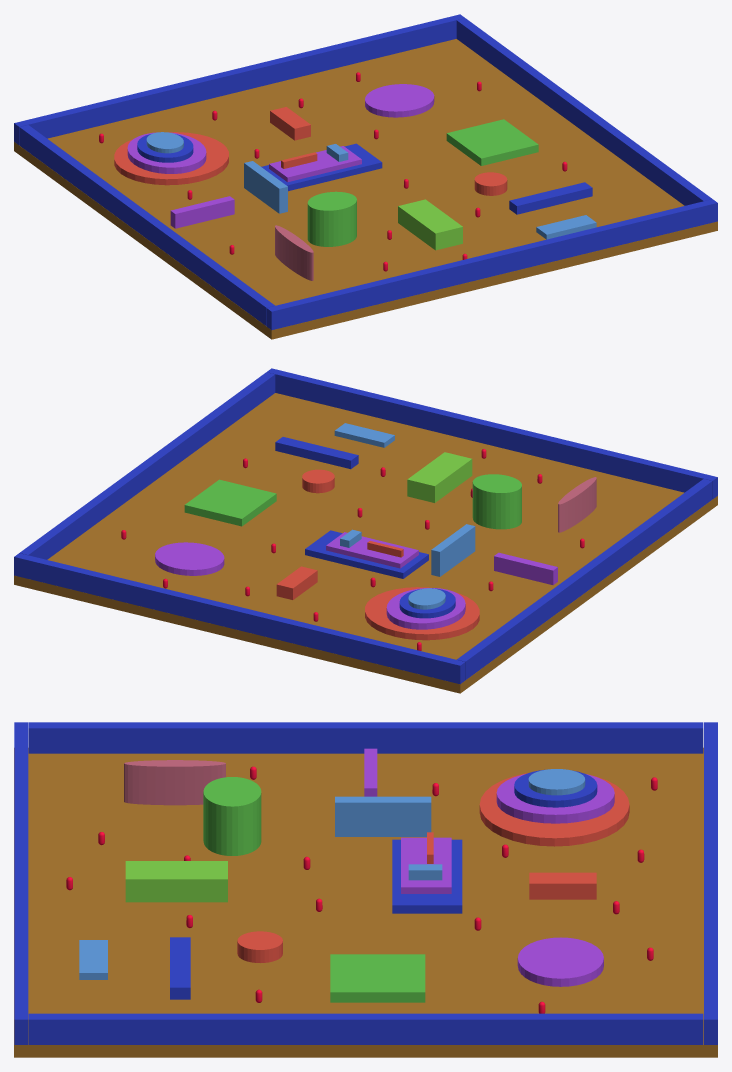
3 views of the same model, one above another, from view 1: azimuth 30°, elevation 25°; view 2: azimuth 150°, elevation 25°; view 3: azimuth 270°, elevation 25° (orthographic). The views are drawn at different scales.
Parts seen in each view (by area): view 1: Cube, Cube.002, Cube.001, Cube.003, Cube.004, Cube.012, Cylinder.004, Cylinder, Cube.014, Cylinder.006, Cube.010, Cylinder.007 (+10 smaller); view 2: Cube, Cube.001, Cube.002, Cube.003, Cube.004, Cube.012, Cylinder.004, Cylinder, Cube.014, Cylinder.006, Cube.005, Cube.010 (+10 smaller); view 3: Cube, Cube.004, Cube.003, Cube.002, Cube.012, Cube.001, Cube.014, Cylinder.004, Cylinder, Cylinder.007, Cube.010, Cylinder.006 (+11 smaller).
Boxes of the visible parts, x1=… form: Cube: x1=14, y1=39, x2=717, y2=339; Cube.002: x1=266, y1=199, x2=717, y2=330; Cube.001: x1=14, y1=14, x2=464, y2=145; Cube.003: x1=19, y1=125, x2=274, y2=326; Cube.004: x1=456, y1=18, x2=711, y2=205; Cube.012: x1=446, y1=119, x2=538, y2=165; Cylinder.004: x1=307, y1=191, x2=356, y2=246; Cylinder: x1=114, y1=132, x2=228, y2=185; Cube.014: x1=398, y1=199, x2=462, y2=250; Cylinder.006: x1=365, y1=84, x2=434, y2=117; Cube.010: x1=244, y1=161, x2=287, y2=213; Cylinder.007: x1=275, y1=225, x2=313, y2=280; Cube: x1=14, y1=393, x2=717, y2=693; Cube.001: x1=14, y1=553, x2=465, y2=684; Cube.002: x1=267, y1=368, x2=717, y2=499; Cube.003: x1=457, y1=479, x2=712, y2=680; Cube.004: x1=19, y1=372, x2=275, y2=559; Cube.012: x1=184, y1=479, x2=276, y2=526; Cylinder.004: x1=472, y1=474, x2=521, y2=529; Cylinder: x1=365, y1=587, x2=479, y2=640; Cube.014: x1=407, y1=452, x2=472, y2=502; Cylinder.006: x1=155, y1=542, x2=224, y2=575; Cube.005: x1=305, y1=530, x2=428, y2=578; Cube.010: x1=431, y1=524, x2=475, y2=576; Cube: x1=14, y1=747, x2=717, y2=1057; Cube.004: x1=28, y1=1013, x2=703, y2=1044; Cube.003: x1=28, y1=722, x2=703, y2=753; Cube.002: x1=14, y1=722, x2=28, y2=1044; Cube.012: x1=330, y1=954, x2=425, y2=1002; Cube.001: x1=704, y1=722, x2=717, y2=1044; Cube.014: x1=125, y1=861, x2=227, y2=902; Cylinder.004: x1=203, y1=777, x2=261, y2=855; Cylinder: x1=479, y1=773, x2=629, y2=846; Cylinder.007: x1=124, y1=760, x2=225, y2=805; Cube.010: x1=335, y1=796, x2=431, y2=836; Cylinder.006: x1=517, y1=937, x2=603, y2=986.
Size of the model in its own units: 100 by 9.8 by 100.
